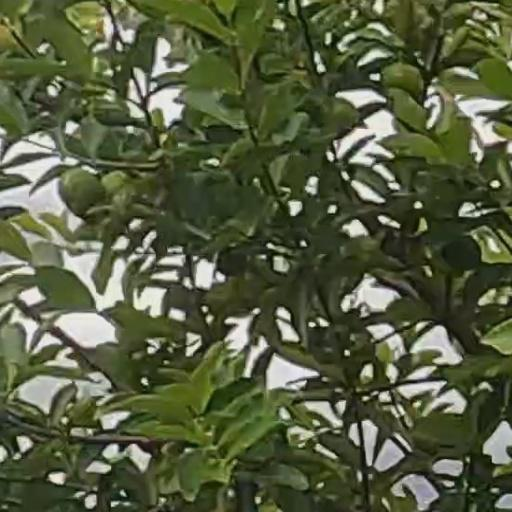acerola_verde: (60, 174, 103, 214)
